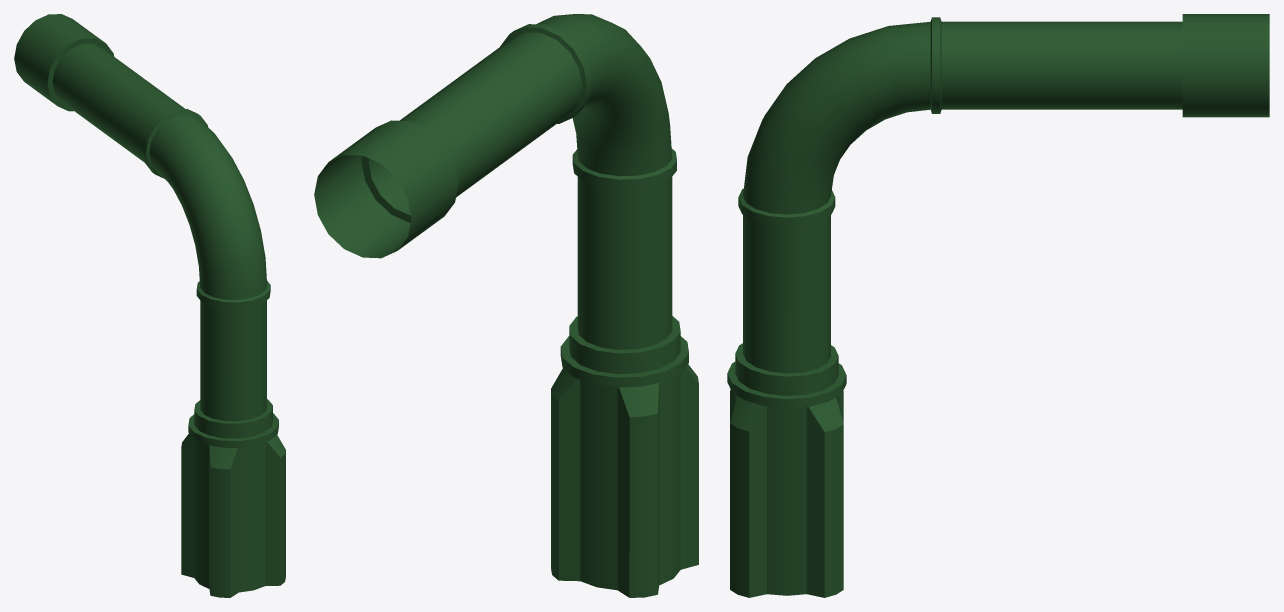
The model's file is Side_tube_02.fbx.
3 renders of one model, left to right at view 1: azimuth 30°, elevation 25°; view 2: azimuth 150°, elevation 25°; view 3: azimuth 270°, elevation 25°, orthographic. The views are drawn at different scales.
Parts seen in each view (by area): view 1: side_tube_02; view 2: side_tube_02; view 3: side_tube_02.
Part boxes in pixels (x1=…): side_tube_02: x1=14, y1=14, x2=285, y2=597; side_tube_02: x1=314, y1=14, x2=698, y2=597; side_tube_02: x1=727, y1=14, x2=1269, y2=597.
Size of the model in its own units: 312 by 1420 by 1605.
